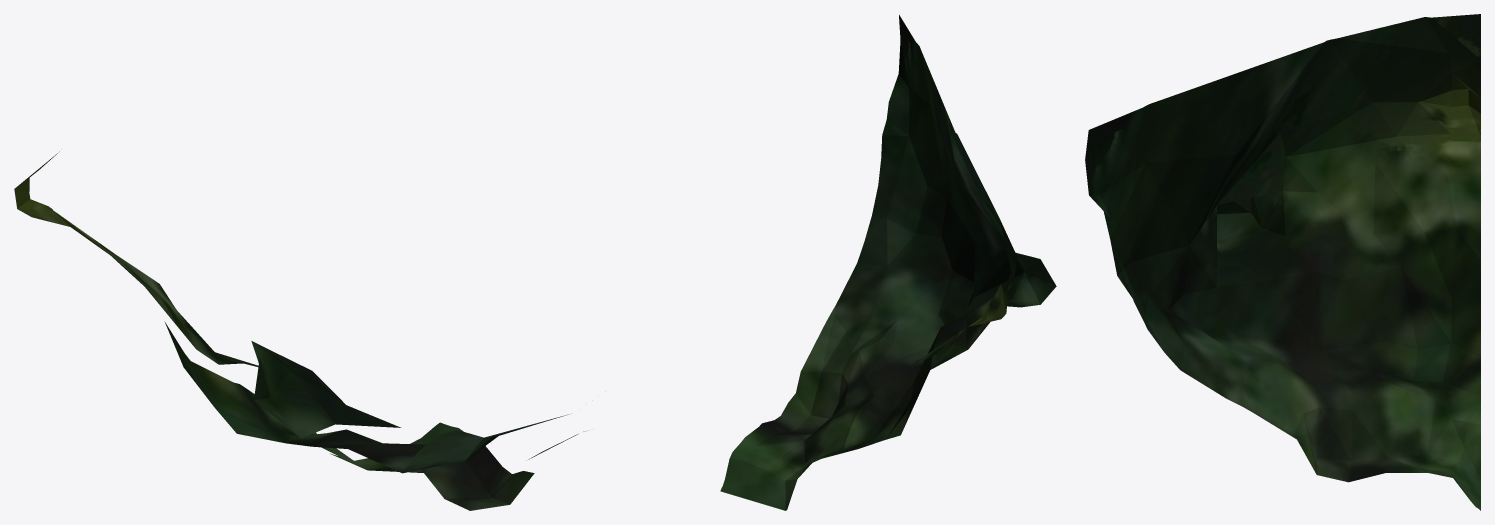
3 renders of one model, left to right at view 1: azimuth 30°, elevation 25°; view 2: azimuth 150°, elevation 25°; view 3: azimuth 270°, elevation 25°, orthographic. The views are drawn at different scales.
Bounding box in the file's own units: 0.4517 × 0.5457 × 0.5086.
1 material, 1 textured.
